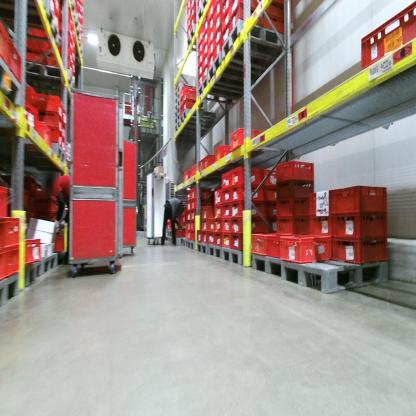pallet: (282, 255, 388, 303), (220, 18, 286, 69), (207, 48, 259, 91), (197, 72, 260, 107), (3, 2, 59, 33), (24, 62, 75, 91), (1, 52, 26, 110), (250, 249, 281, 281), (179, 106, 213, 133), (0, 269, 21, 309), (21, 259, 44, 289), (38, 250, 62, 277), (175, 121, 208, 140), (220, 246, 244, 267), (49, 141, 68, 165), (187, 23, 201, 52), (196, 2, 211, 28), (175, 83, 196, 100), (167, 236, 183, 248), (196, 240, 208, 256), (208, 243, 222, 256), (186, 238, 196, 251), (180, 236, 186, 248), (175, 92, 180, 105), (175, 107, 180, 119), (175, 100, 181, 110), (166, 230, 173, 238), (175, 114, 181, 123)
small_load_carrier: (362, 0, 416, 72), (330, 177, 389, 215), (331, 208, 387, 242), (279, 231, 332, 264), (332, 234, 388, 264), (0, 18, 22, 82), (272, 157, 314, 185), (229, 126, 265, 155), (32, 89, 63, 120), (276, 178, 315, 201), (230, 196, 265, 221), (231, 178, 263, 205), (275, 194, 309, 219), (230, 4, 261, 30), (275, 213, 310, 236), (309, 187, 333, 218), (42, 51, 72, 75), (309, 212, 332, 243), (251, 234, 282, 257), (1, 243, 20, 280), (41, 38, 72, 59), (1, 218, 21, 250), (230, 215, 263, 234), (231, 166, 263, 185), (22, 97, 39, 132), (22, 235, 43, 262), (35, 120, 53, 151), (39, 111, 63, 134), (264, 1, 289, 23), (262, 13, 287, 31), (232, 0, 261, 15), (0, 184, 12, 219), (263, 169, 285, 187), (31, 186, 59, 200), (31, 198, 56, 213), (215, 144, 231, 165), (190, 185, 212, 200), (200, 155, 215, 175), (264, 196, 277, 219), (180, 85, 197, 102), (50, 124, 63, 146), (265, 186, 285, 200), (221, 4, 232, 29), (26, 35, 44, 50), (59, 4, 73, 23), (25, 47, 43, 61), (61, 28, 72, 50), (212, 23, 222, 47), (220, 171, 232, 191), (191, 198, 211, 210), (190, 160, 201, 181), (230, 234, 244, 250), (182, 92, 199, 105), (52, 233, 65, 250), (223, 21, 232, 45), (201, 206, 217, 219), (264, 219, 277, 234), (213, 38, 223, 57), (183, 100, 203, 109), (61, 20, 73, 35), (207, 52, 216, 71), (212, 14, 222, 31), (213, 1, 221, 22), (222, 217, 232, 233), (206, 14, 214, 34), (206, 28, 214, 48), (223, 185, 231, 204), (214, 200, 221, 220), (221, 206, 231, 220), (214, 188, 222, 205), (222, 0, 231, 15), (222, 233, 231, 248), (214, 218, 223, 233), (214, 231, 223, 245), (54, 1, 63, 15), (182, 170, 190, 185), (201, 53, 208, 70), (196, 26, 203, 43), (202, 218, 211, 231), (207, 40, 214, 56), (198, 58, 203, 79), (190, 3, 196, 19), (207, 4, 213, 20), (202, 43, 207, 62), (207, 231, 214, 244), (175, 227, 183, 238), (197, 39, 202, 56), (202, 31, 208, 45), (190, 15, 196, 27), (202, 231, 208, 243), (186, 218, 192, 230), (198, 48, 202, 65), (186, 230, 192, 241), (209, 218, 214, 231), (191, 228, 196, 241), (198, 73, 203, 86), (190, 209, 196, 219), (187, 189, 191, 204), (203, 65, 208, 77), (203, 19, 207, 33), (186, 211, 191, 222), (186, 200, 191, 211), (191, 219, 196, 228), (167, 221, 171, 229)
